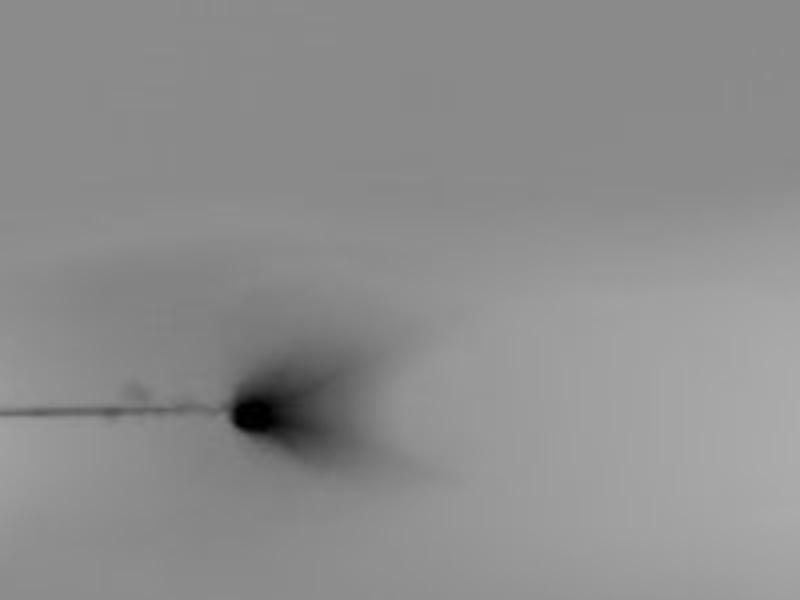defect: (228, 392, 291, 433)
